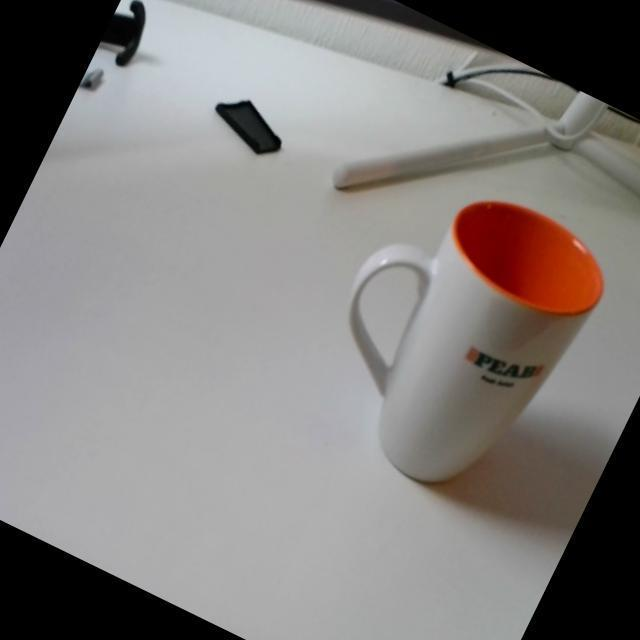cup: (286, 150, 624, 520)
